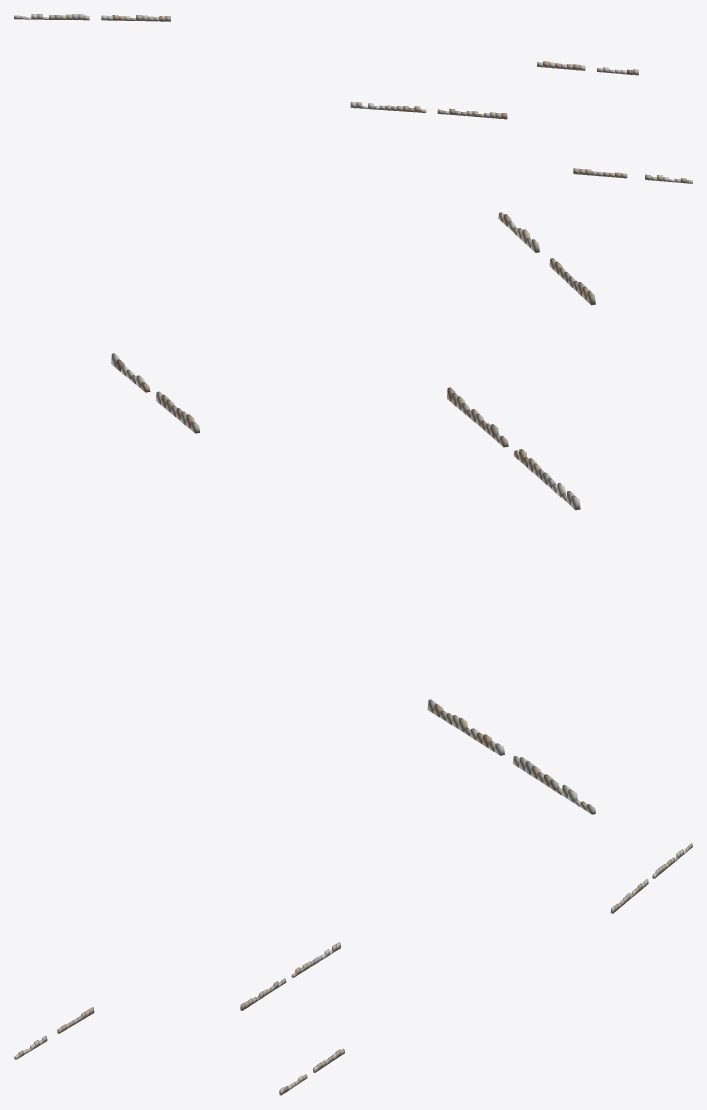
The model's file is farm_11_13_collision.glb.
3 views of the same model, one above another, from view 1: azimuth 30°, elevation 25°; view 2: azimuth 150°, elevation 25°; view 3: azimuth 270°, elevation 25° (orthographic). The views are drawn at different scales.
Visible parts, largest first — view 1: geometry_0; view 2: geometry_0; view 3: geometry_0.
Boxes of the visible parts, x1=… form: geometry_0: x1=14, y1=14, x2=692, y2=183; geometry_0: x1=111, y1=212, x2=595, y2=814; geometry_0: x1=14, y1=843, x2=692, y2=1095.
Bounding box in the file's own units: 133 × 7.59 × 168.
